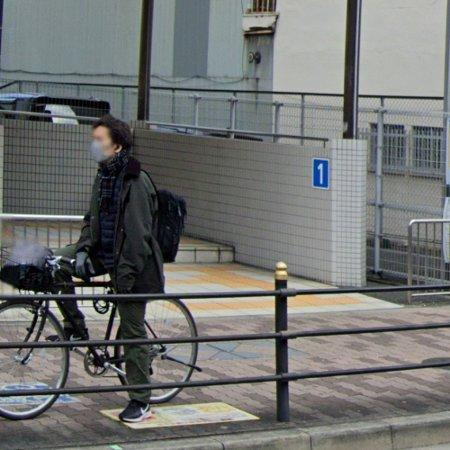bicycles: (0, 293, 126, 392), (1, 256, 111, 293), (145, 300, 197, 339), (151, 343, 198, 384), (88, 297, 120, 342), (0, 396, 57, 420)
